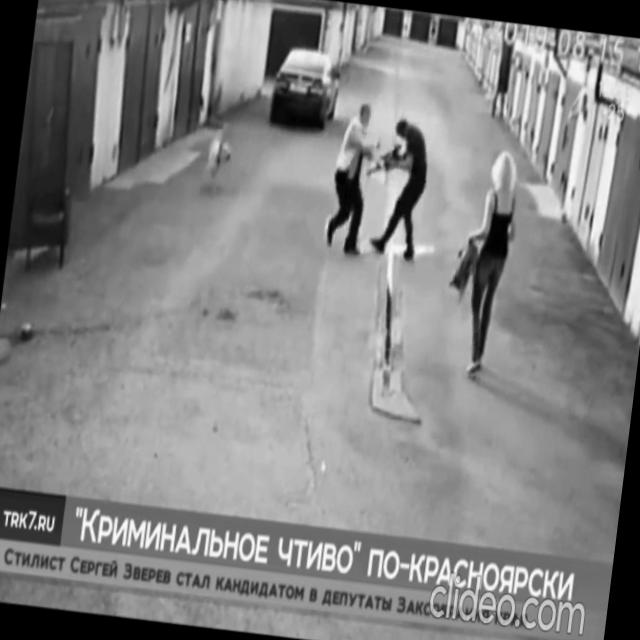gun: (366, 136, 408, 182)
person: (448, 148, 526, 378), (322, 99, 397, 262)
person with a gun: (356, 112, 435, 264)
